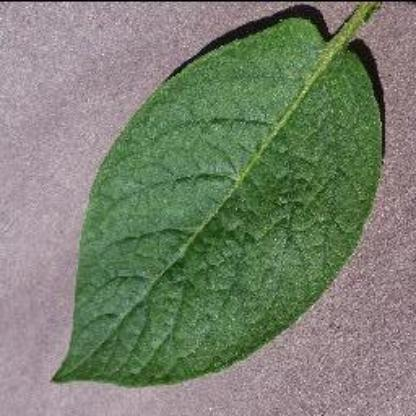Healthy-plant: (47, 8, 383, 396)
